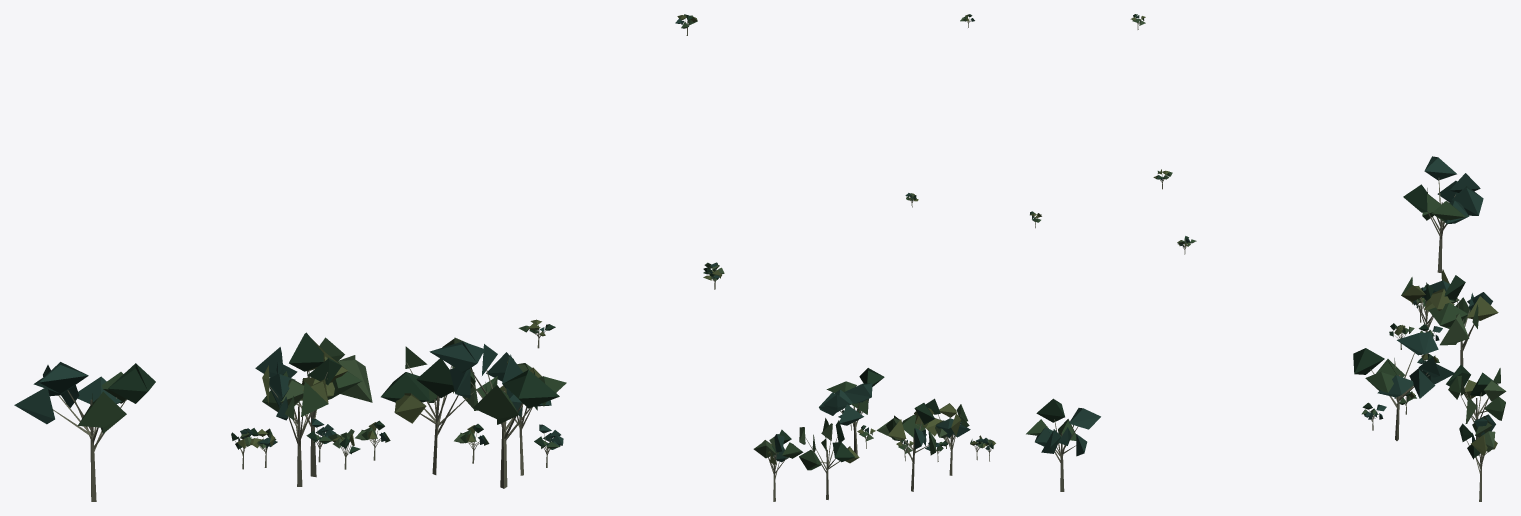
The model's file is forest_21_23.dae.
3 views of the same model, side by side, from view 1: azimuth 30°, elevation 25°; view 2: azimuth 150°, elevation 25°; view 3: azimuth 270°, elevation 25° (orthographic). The views are drawn at different scales.
Parts seen in each view (by area): view 1: Node; view 2: Node; view 3: Node.
Part boxes in pixels (x1=…): Node: x1=14, y1=14, x2=724, y2=501; Node: x1=753, y1=14, x2=1100, y2=501; Node: x1=1130, y1=14, x2=1506, y2=501.
Size of the model in its own units: 11.82 by 10.14 by 13.69.
